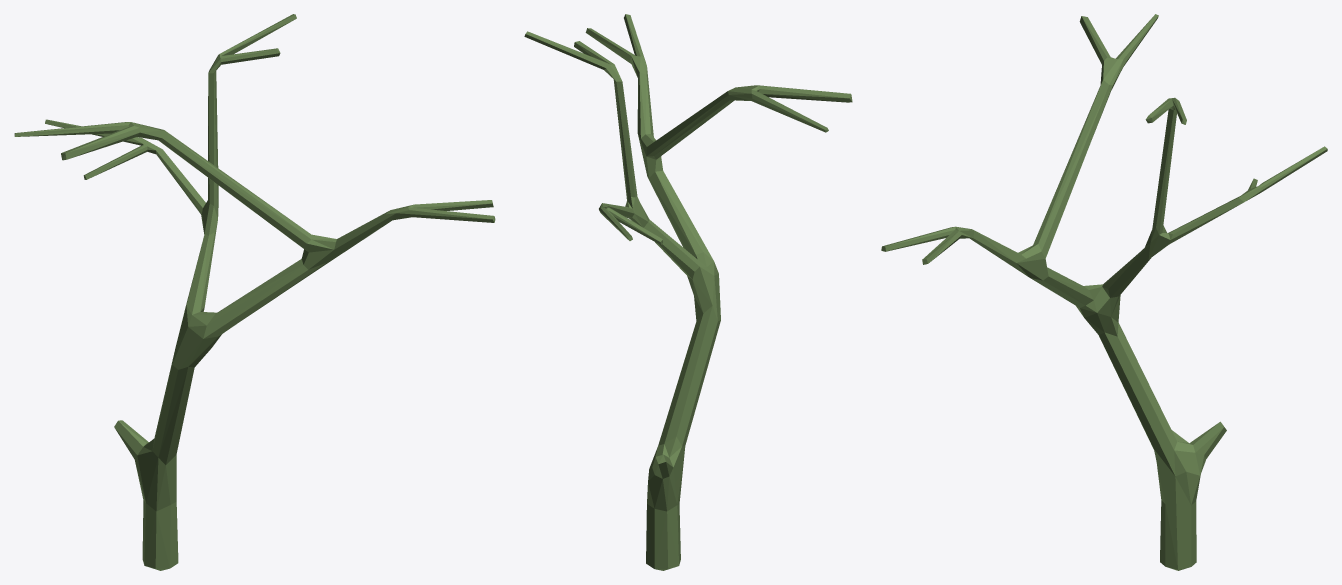
Rendered from plant08.fbx.
3 views of the same model, side by side, from view 1: azimuth 30°, elevation 25°; view 2: azimuth 150°, elevation 25°; view 3: azimuth 270°, elevation 25° (orthographic). The views are drawn at different scales.
Parts seen in each view (by area): view 1: Plane.055; view 2: Plane.055; view 3: Plane.055.
Part boxes in pixels (left/top/right/bottom): Plane.055: left=14, top=14, right=495, bottom=570; Plane.055: left=524, top=14, right=852, bottom=570; Plane.055: left=881, top=14, right=1327, bottom=570.
Bounding box in the file's own units: 0.357 × 0.4893 × 0.3821.
